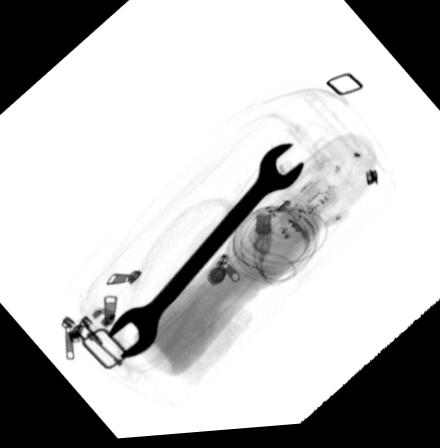Wrench: (104, 146, 308, 362)
